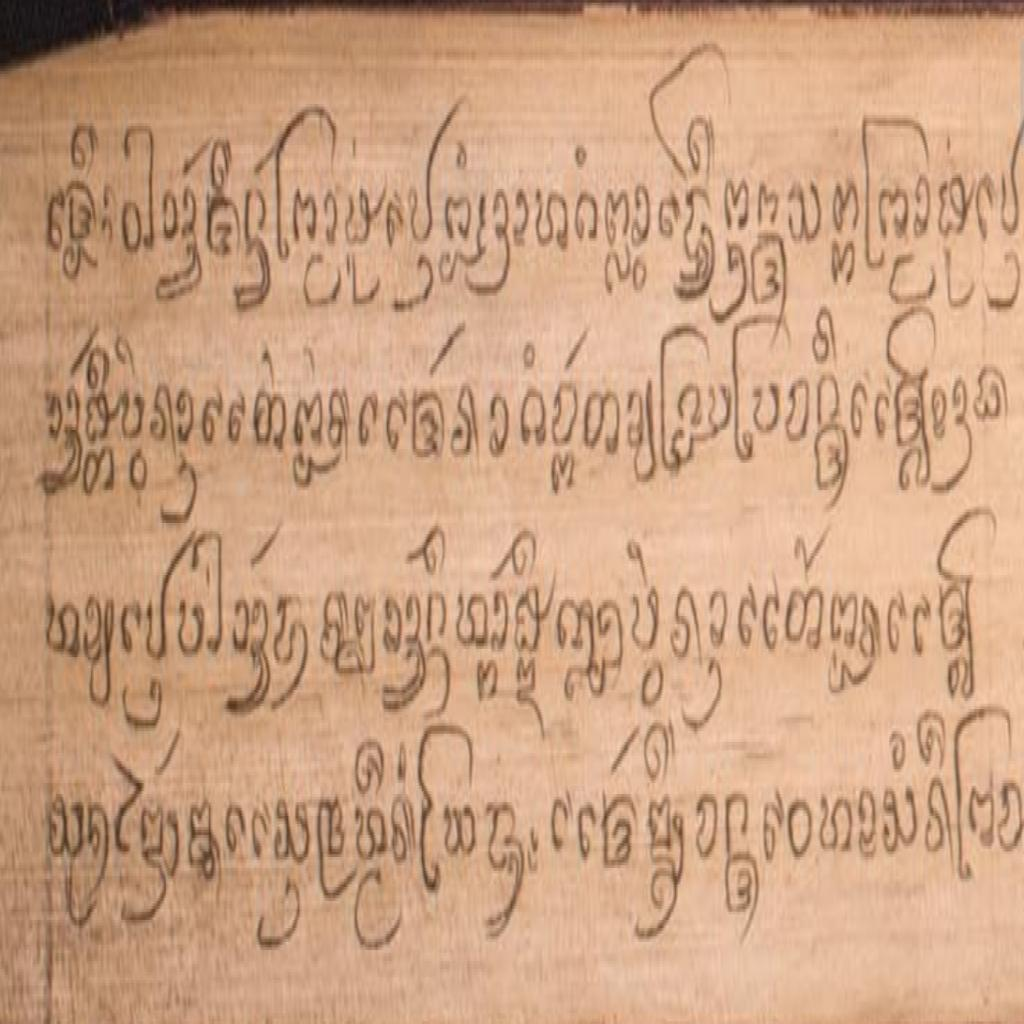LN018: (514, 655, 547, 746)
LN021: (749, 226, 790, 313)
